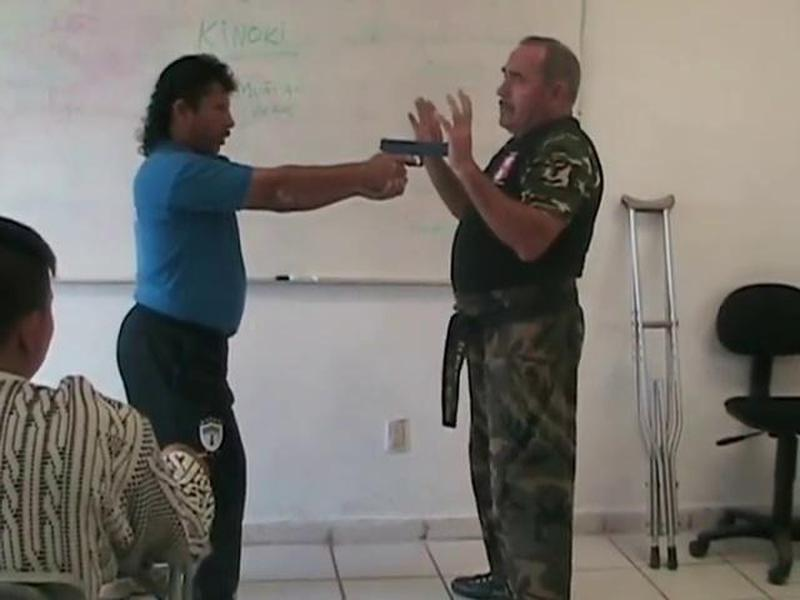Pistola: (373, 134, 461, 200)
